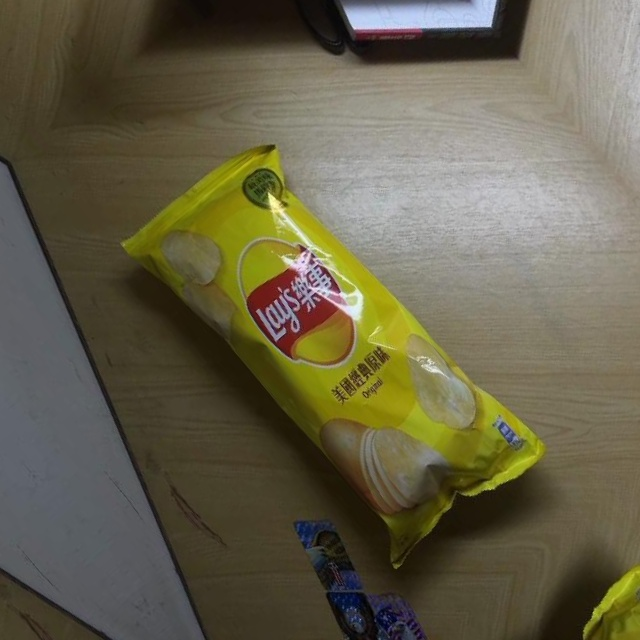Lay-s-original: (115, 116, 550, 580)
